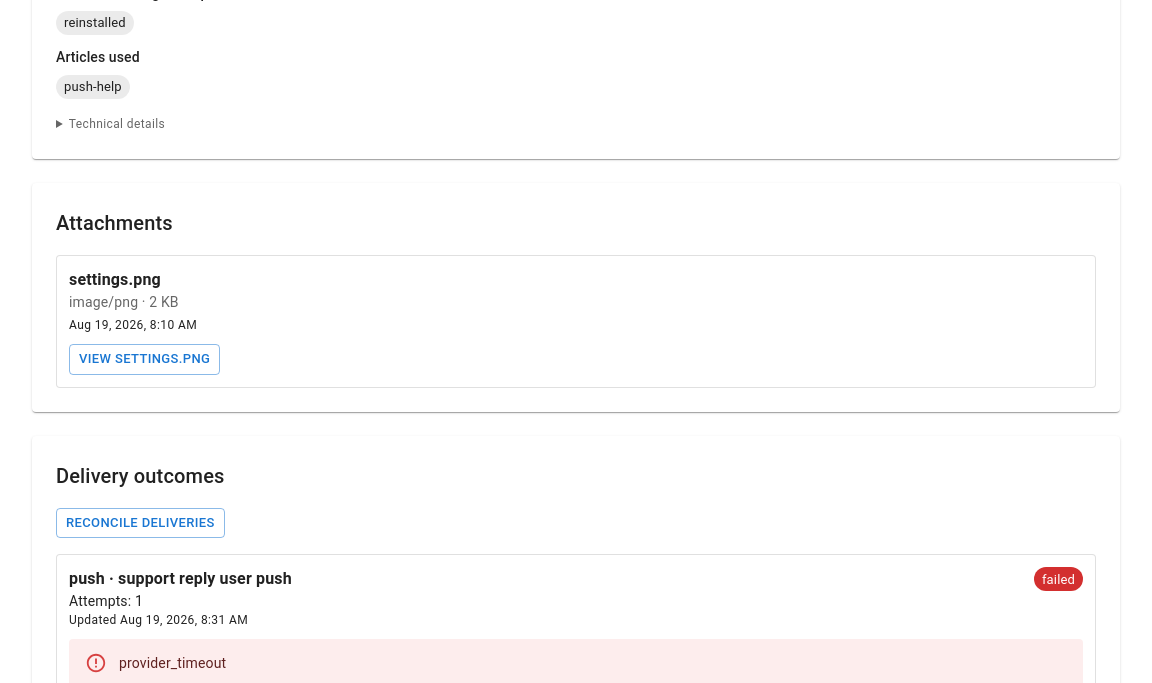
Test: SupportTicketDetail › surfaces an attachment access failure without opening a tab
(page scrolled)
Expected: the text "settings.png" is shown, [69, 270, 161, 289]
Click the button "View settings.png" at (145, 359), box [69, 344, 220, 375]
(page scrolled)
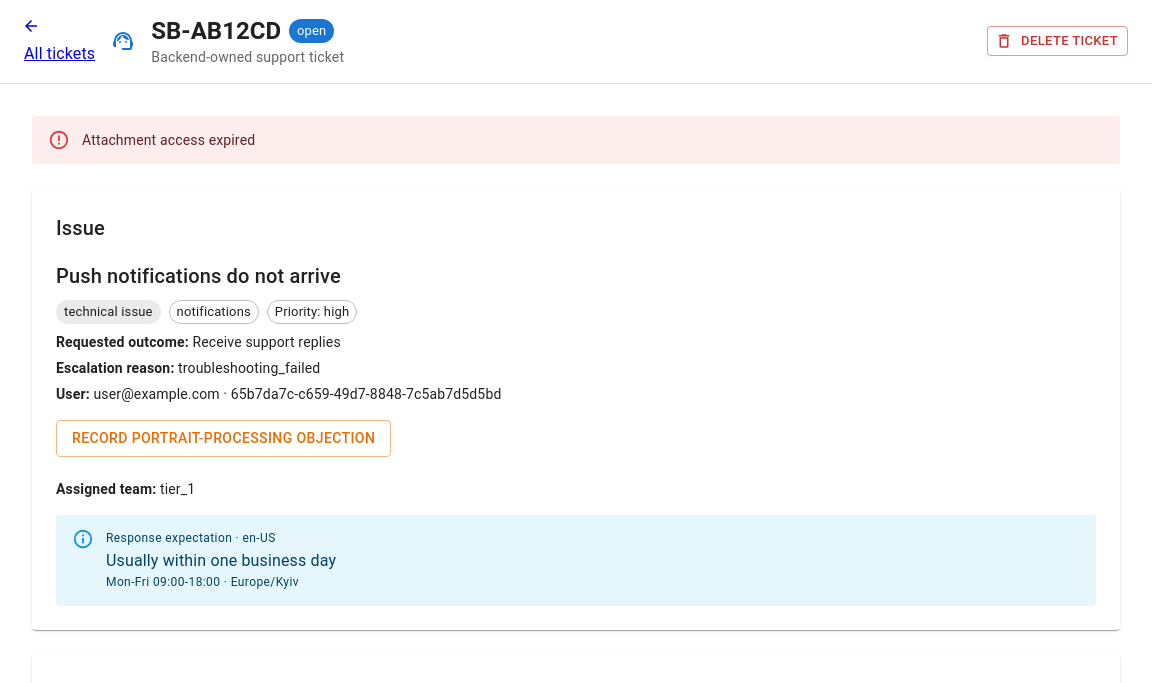
Now the text "Attachment access expired" is shown, box [82, 132, 255, 148]
